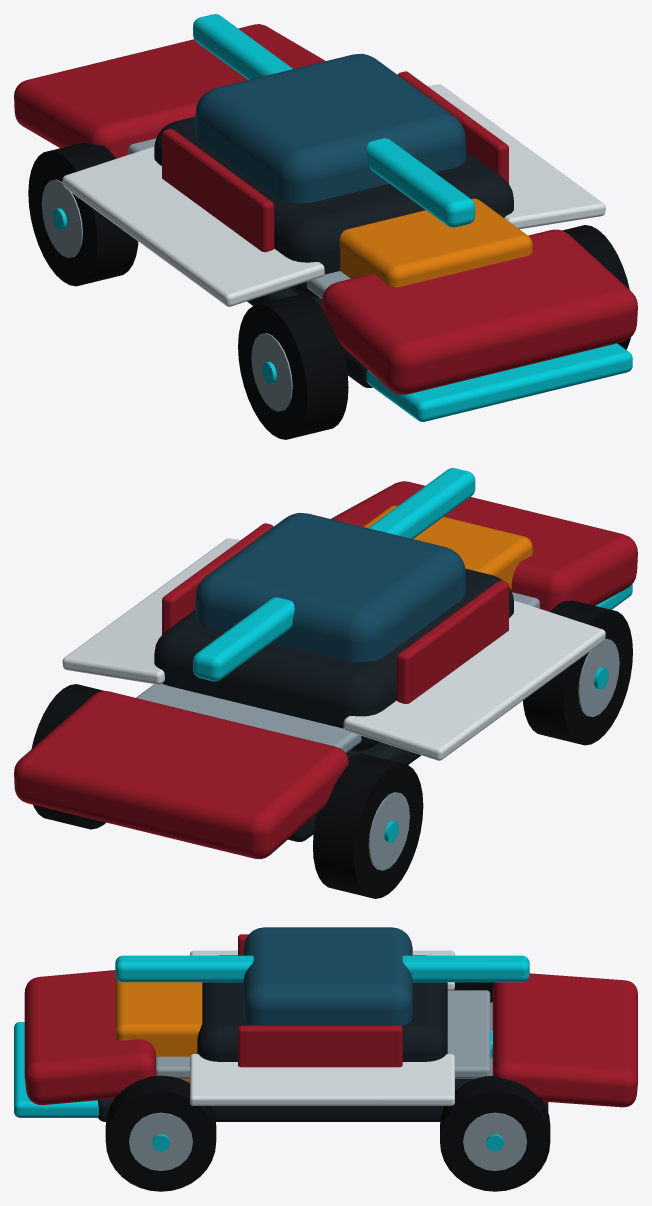
File: chronos_flux.glb
3 views of the same model, one above another, from view 1: azimuth 30°, elevation 25°; view 2: azimuth 150°, elevation 25°; view 3: azimuth 270°, elevation 25° (orthographic). The views are drawn at different scales.
Parts seen in each view (by area): view 1: meet_mesh__rear_aero__tail, meet_mesh__canopy__transparent_cell, meet_mesh__front_aero__nose, meet_mesh__left_vector_wing__morphing_surface, meet_mesh__monocoque__central_cell, meet_mesh__wheel_left_1.45__tire, meet_mesh__powertrain__original_power_core, meet_mesh__active_diffuser__venturi, meet_mesh__adaptive_spine__energy_arch, meet_mesh__wheel_left_-1.55__tire, meet_mesh__left_door__scissor_shell, meet_mesh__right_vector_wing__morphing_surface (+6 smaller); view 2: meet_mesh__front_aero__nose, meet_mesh__canopy__transparent_cell, meet_mesh__left_vector_wing__morphing_surface, meet_mesh__monocoque__central_cell, meet_mesh__rear_aero__tail, meet_mesh__wheel_left_-1.55__tire, meet_mesh__adaptive_spine__energy_arch, meet_mesh__wheel_left_1.45__tire, meet_mesh__left_door__scissor_shell, meet_mesh__right_vector_wing__morphing_surface, meet_mesh__floor__structural_floor, meet_mesh__powertrain__original_power_core (+5 smaller); view 3: meet_mesh__front_aero__nose, meet_mesh__canopy__transparent_cell, meet_mesh__rear_aero__tail, meet_mesh__right_vector_wing__morphing_surface, meet_mesh__wheel_right_-1.55__tire, meet_mesh__wheel_right_1.45__tire, meet_mesh__adaptive_spine__energy_arch, meet_mesh__right_door__scissor_shell, meet_mesh__monocoque__central_cell, meet_mesh__powertrain__original_power_core, meet_mesh__floor__structural_floor, meet_mesh__chassis__lower_frame (+5 smaller).
Part boxes in pixels (x1,y1,x2,y2): meet_mesh__rear_aero__tail: [321, 229, 637, 394]; meet_mesh__canopy__transparent_cell: [195, 53, 465, 203]; meet_mesh__front_aero__nose: [14, 24, 325, 158]; meet_mesh__left_vector_wing__morphing_surface: [62, 146, 324, 306]; meet_mesh__monocoque__central_cell: [154, 116, 513, 297]; meet_mesh__wheel_left_1.45__tire: [238, 294, 348, 439]; meet_mesh__powertrain__original_power_core: [339, 198, 532, 287]; meet_mesh__active_diffuser__venturi: [366, 343, 632, 421]; meet_mesh__adaptive_spine__energy_arch: [193, 14, 475, 227]; meet_mesh__wheel_left_-1.55__tire: [28, 142, 138, 286]; meet_mesh__left_door__scissor_shell: [162, 128, 274, 252]; meet_mesh__right_vector_wing__morphing_surface: [427, 84, 605, 229]; meet_mesh__front_aero__nose: [14, 691, 348, 859]; meet_mesh__canopy__transparent_cell: [195, 513, 465, 662]; meet_mesh__left_vector_wing__morphing_surface: [343, 600, 605, 760]; meet_mesh__monocoque__central_cell: [154, 568, 513, 751]; meet_mesh__rear_aero__tail: [331, 481, 637, 611]; meet_mesh__wheel_left_-1.55__tire: [313, 753, 423, 898]; meet_mesh__adaptive_spine__energy_arch: [193, 468, 475, 681]; meet_mesh__wheel_left_1.45__tire: [523, 600, 632, 745]; meet_mesh__left_door__scissor_shell: [397, 580, 508, 703]; meet_mesh__right_vector_wing__morphing_surface: [62, 538, 240, 684]; meet_mesh__floor__structural_floor: [136, 592, 539, 752]; meet_mesh__powertrain__original_power_core: [363, 505, 532, 590]; meet_mesh__front_aero__nose: [492, 973, 637, 1107]; meet_mesh__canopy__transparent_cell: [243, 927, 412, 1025]; meet_mesh__rear_aero__tail: [24, 970, 156, 1105]; meet_mesh__right_vector_wing__morphing_surface: [190, 1054, 454, 1105]; meet_mesh__wheel_right_-1.55__tire: [440, 1075, 550, 1191]; meet_mesh__wheel_right_1.45__tire: [105, 1075, 216, 1191]; meet_mesh__adaptive_spine__energy_arch: [115, 955, 529, 982]; meet_mesh__right_door__scissor_shell: [238, 1025, 402, 1067]; meet_mesh__monocoque__central_cell: [197, 955, 447, 1061]; meet_mesh__powertrain__original_power_core: [115, 979, 202, 1082]; meet_mesh__floor__structural_floor: [156, 990, 490, 1078]; meet_mesh__chassis__lower_frame: [98, 1079, 548, 1121].
Size of the model in its own units: 3.14 by 1.71 by 5.6.
